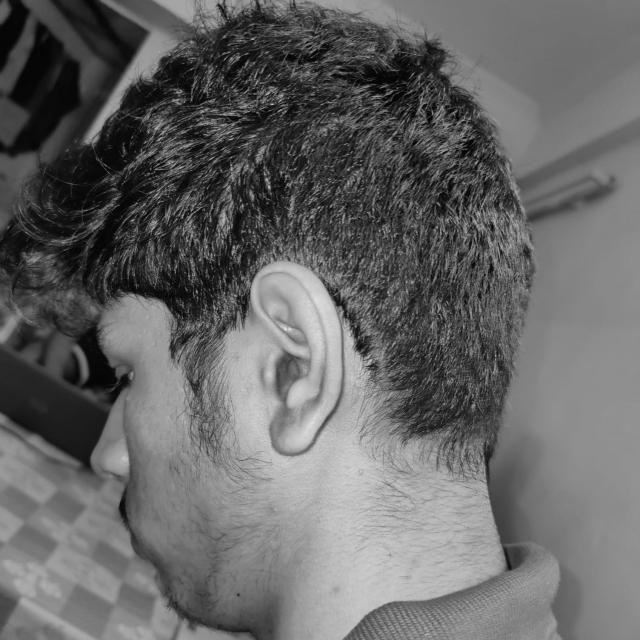ear: (249, 261, 343, 454)
